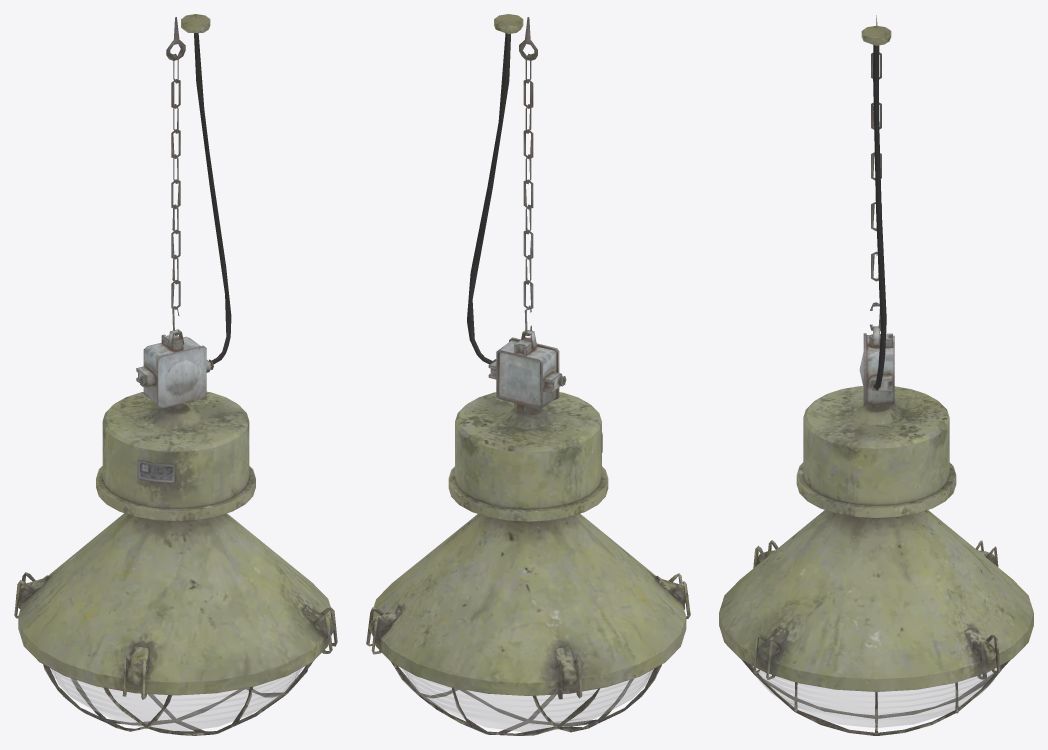
Rendered from hanging_industrial_lamp.glb.
3 views of the same model, side by side, from view 1: azimuth 30°, elevation 25°; view 2: azimuth 150°, elevation 25°; view 3: azimuth 270°, elevation 25° (orthographic).
Visible parts, largest first — view 1: hanging_industrial_lamp; view 2: hanging_industrial_lamp; view 3: hanging_industrial_lamp.
Boxes of the visible parts, box(x1,y1,x2,y2) form: hanging_industrial_lamp: box(14, 14, 337, 735); hanging_industrial_lamp: box(366, 14, 690, 735); hanging_industrial_lamp: box(719, 15, 1033, 735).
Bounding box in the file's own units: 0.5496 × 1.36 × 0.5496.
2 materials, 1 textured.
